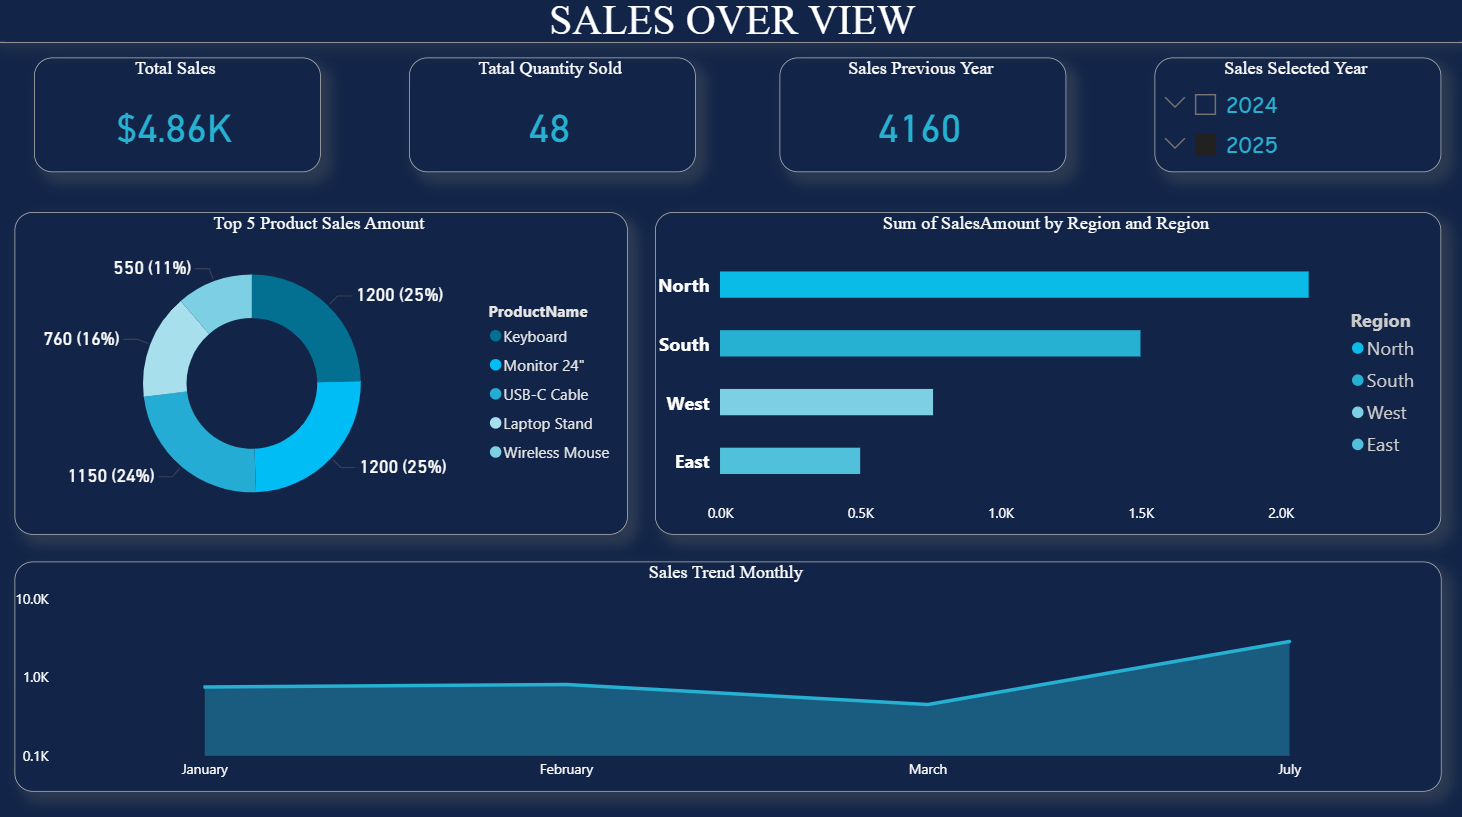

What the dashboard file says about the page in this screenshot:
{"tool":"powerbi","page":{"name":"Page 1","canvas":[1280,720],"ordinal":0},"visuals":[{"type":"textbox","title":"SALES OVER VIEW","box":[0,0,1279.2,40.5],"z":0},{"type":"card","title":"Total Sales","fields":{"Values":["Sum(Sales.SalesAmount)"]},"box":[31.8,54.1,250,100.2],"z":1000},{"type":"card","title":"Tatal Quantity Sold","fields":{"Values":["Sum(Sales.QuantitySold)"]},"box":[357.9,54.1,250,100.2],"z":2000},{"type":"donutChart","title":"Top 5 Product Sales Amount","fields":{"Category":["Products.ProductName"],"Y":["Sum(Sales.SalesAmount)"]},"box":[14.3,187.7,534.4,281.5],"z":3000},{"type":"barChart","fields":{"Category":["Stores.Region"],"Y":["Sum(Sales.SalesAmount)"],"Series":["Stores.Region"]},"box":[572.6,187.7,685.6,281.5],"z":4000},{"type":"lineChart","title":"Sales Trend Monthly","fields":{"Y":["Sum(Sales.SalesAmount)"],"Category":["Sales.Date.Variation.Date Hierarchy.Month"]},"box":[14.3,493.1,1243.9,200.4],"z":5000},{"type":"card","title":"Sales Previous Year","fields":{"Values":["Inventory.Measure"]},"box":[680.8,54.1,250,100.2],"z":6000},{"type":"slicer","title":"Sales Selected Year","fields":{"Values":["Sales.Date.Variation.Date Hierarchy.Year","Sales.Date.Variation.Date Hierarchy.Quarter","Sales.Date.Variation.Date Hierarchy.Month","Sales.Date.Variation.Date Hierarchy.Day"]},"box":[1008.4,54.1,250,100.2],"z":7000}]}

Visuals, with their boxes in screenshot pixels (x1, y1, x2, y2), scaled from the page's 1280x720 canvas onto the 1462x817 screenshot:
"SALES OVER VIEW" textbox: <region>0, 0, 1461, 46</region>
"Total Sales" card: <region>36, 61, 322, 175</region>
"Tatal Quantity Sold" card: <region>409, 61, 694, 175</region>
"Top 5 Product Sales Amount" donutChart: <region>16, 213, 627, 532</region>
barChart - Stores.Region x Sum(Sales.SalesAmount): <region>654, 213, 1437, 532</region>
"Sales Trend Monthly" lineChart: <region>16, 560, 1437, 787</region>
"Sales Previous Year" card: <region>778, 61, 1063, 175</region>
"Sales Selected Year" slicer: <region>1152, 61, 1437, 175</region>
